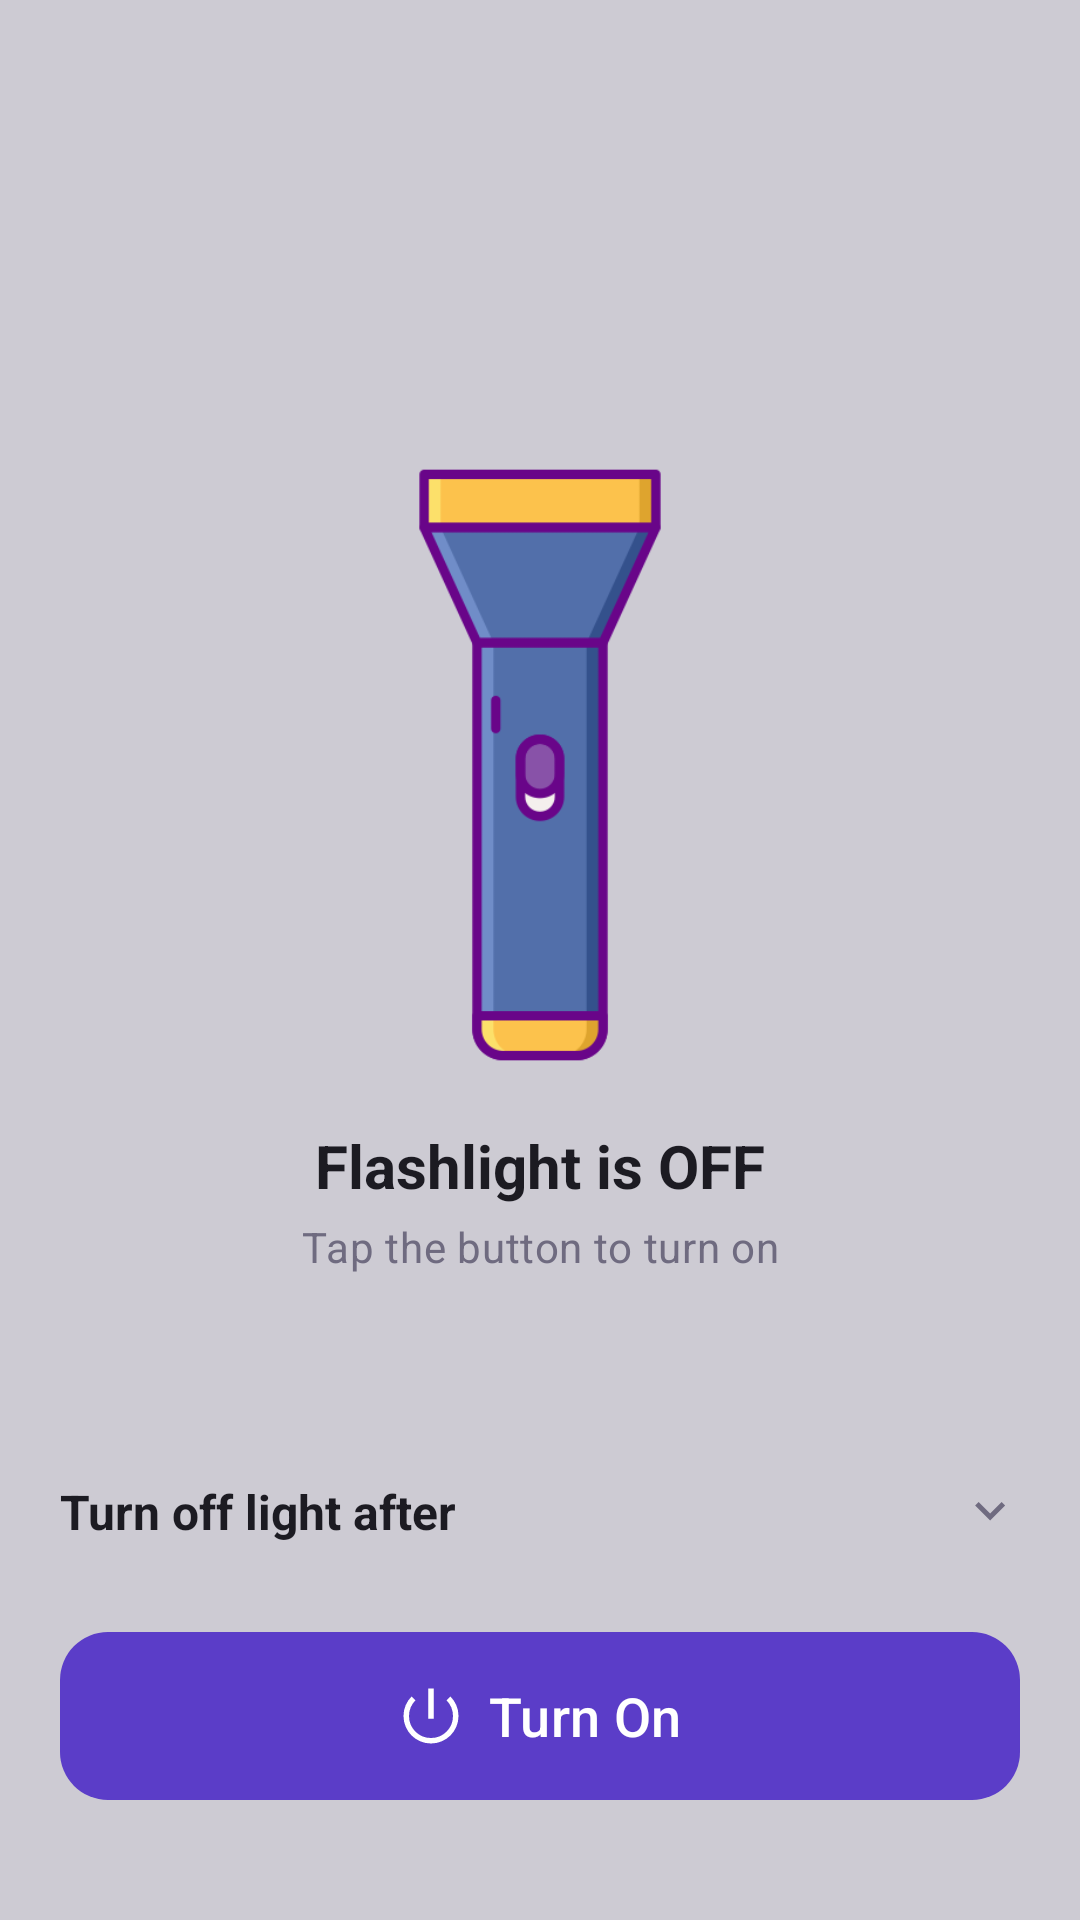

Icons on this 1080 × 1920 Android screen, each with the point to tap as point (x, y):
chevron down: point (990, 1511)
